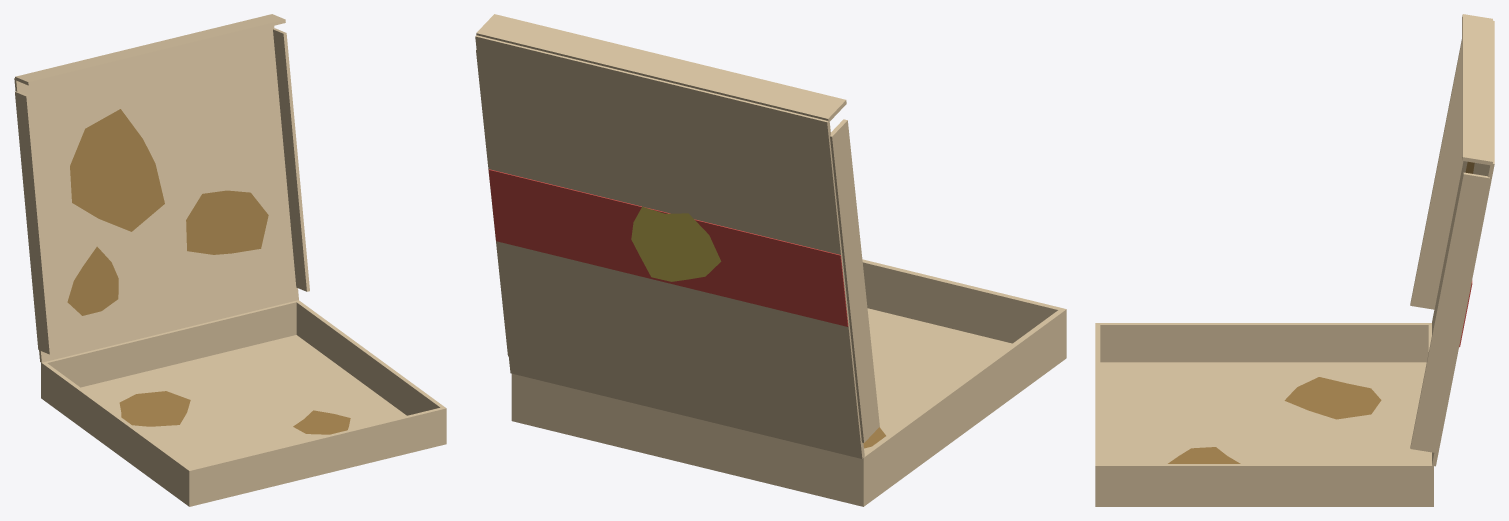
Rendered from CajaDePizza.fbx.
The picture shows the model from 3 angles, left to right: view 1: azimuth 30°, elevation 25°; view 2: azimuth 150°, elevation 25°; view 3: azimuth 270°, elevation 25°; orthographic projection. The views are drawn at different scales.
Visible parts, largest first — view 1: Caja_Pizza_Grasosa; view 2: Caja_Pizza_Grasosa; view 3: Caja_Pizza_Grasosa.
Part boxes in pixels (<box>): Caja_Pizza_Grasosa: <box>14,14,446,506</box>; Caja_Pizza_Grasosa: <box>475,14,1066,506</box>; Caja_Pizza_Grasosa: <box>1095,14,1494,506</box>.
Bounding box in the file's own units: 33.4 × 37.62 × 38.93.
